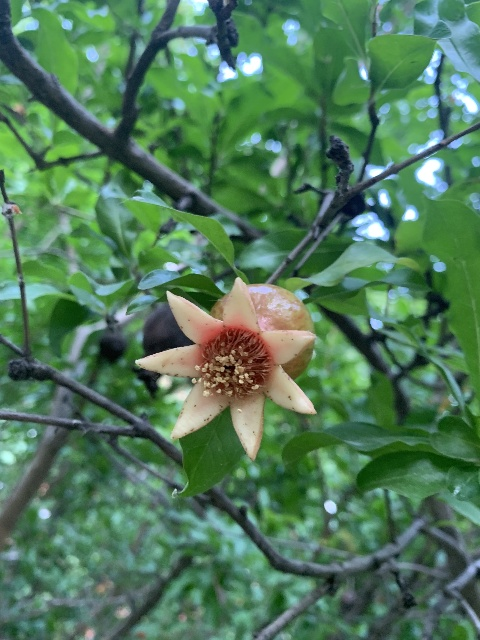early-fruit: (136, 276, 317, 461)
